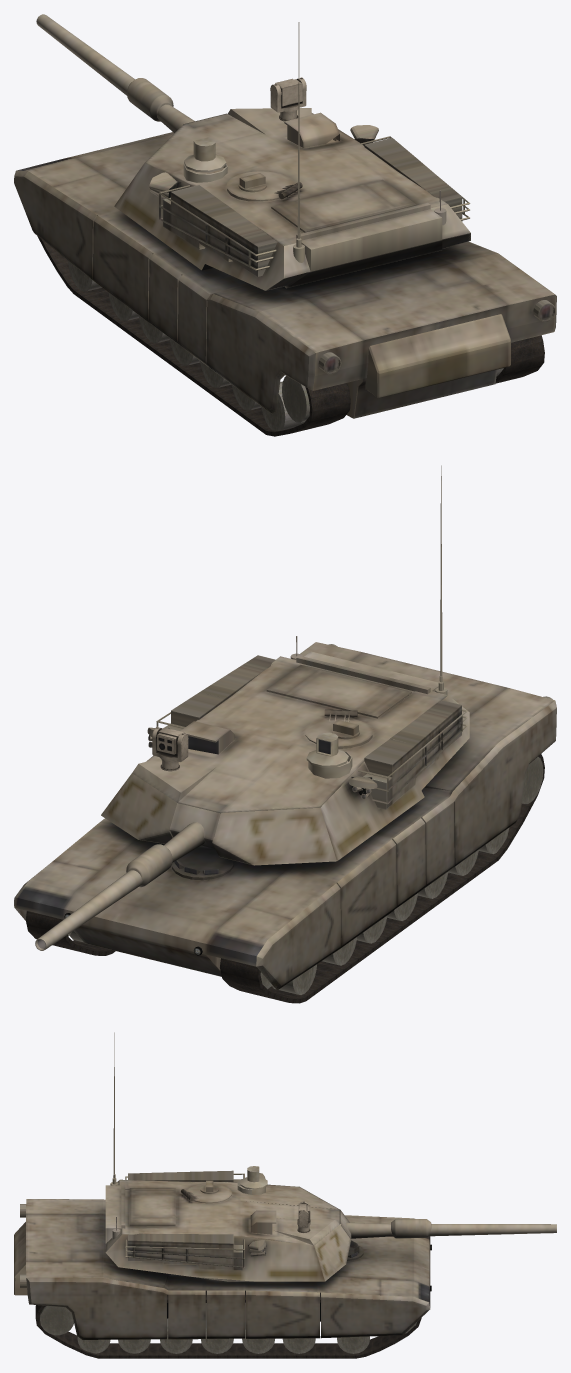
3 views of the same model, one above another, from view 1: azimuth 30°, elevation 25°; view 2: azimuth 150°, elevation 25°; view 3: azimuth 270°, elevation 25° (orthographic). The views are drawn at different scales.
Visible parts, largest first — view 1: hull, part1, treads, part2, wheels, part3_citv, wheels_support, part_wescam_base, part_wescam; view 2: hull, part1, treads, part2, wheels, part3_citv, wheels_support, part_wescam_base; view 3: hull, part1, treads, wheels, part2, wheels_support, part3_citv.
Boxes of the visible parts, x1,y1,x2,y2 form: hull: (14,132,556,418); part1: (114,22,470,290); treads: (37,215,544,436); part2: (36,14,194,132); wheels: (68,260,503,431); part3_citv: (184,137,226,172); wheels_support: (282,376,309,422); part_wescam_base: (270,77,306,121); part_wescam: (275,78,302,106); hull: (14,642,556,990); part1: (101,465,469,865); treads: (25,754,544,1003); part2: (35,819,219,950); wheels: (70,828,509,994); part3_citv: (306,732,348,767); wheels_support: (68,756,543,989); part_wescam_base: (152,726,188,771); hull: (14,1199,430,1339); part1: (105,1032,351,1281); treads: (35,1290,421,1358); wheels: (77,1318,369,1353); part2: (340,1219,556,1238); wheels_support: (40,1306,416,1335); part3_citv: (240,1166,267,1189).
Bounding box in the file's own units: 3.67 × 10.29 × 5.53.
5 materials, 5 textured.
